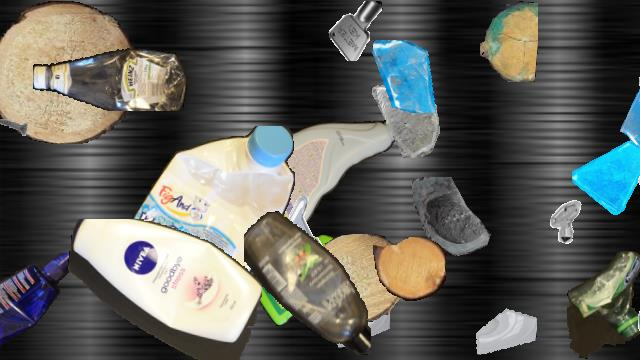glass: (409, 177, 503, 271), (369, 84, 443, 158), (572, 137, 640, 215), (369, 40, 441, 112), (0, 29, 47, 113), (131, 199, 193, 261), (475, 296, 537, 358), (333, 291, 389, 347), (619, 76, 640, 164)
metal: (277, 194, 339, 256), (327, 1, 387, 61), (539, 196, 587, 244), (0, 106, 28, 146), (625, 50, 640, 108), (632, 303, 640, 359), (635, 156, 640, 194)
plastic: (112, 126, 298, 332), (66, 219, 262, 359), (224, 114, 398, 242), (244, 209, 370, 359), (33, 43, 187, 111), (250, 234, 360, 326), (0, 253, 80, 359), (567, 249, 640, 359)
wood: (0, 1, 134, 143), (307, 234, 405, 322), (480, 1, 538, 81), (373, 237, 445, 301)
